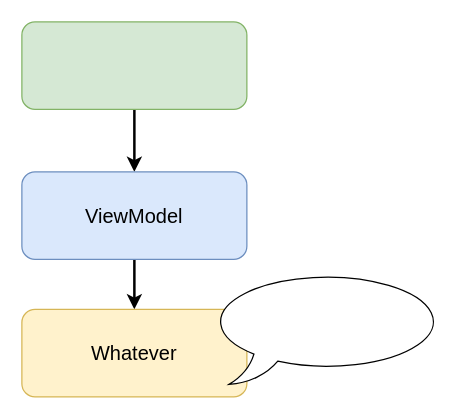
The diagram is 469 pixels wide and 419 high, and some of its shapes have lost their labels. Here are the shapes that lost their labels. From the top down, the box of each, then its label:
(21, 21, 247, 109): Activity / Fragment
(208, 271, 447, 384): Repositoryだったり Managerだったり
